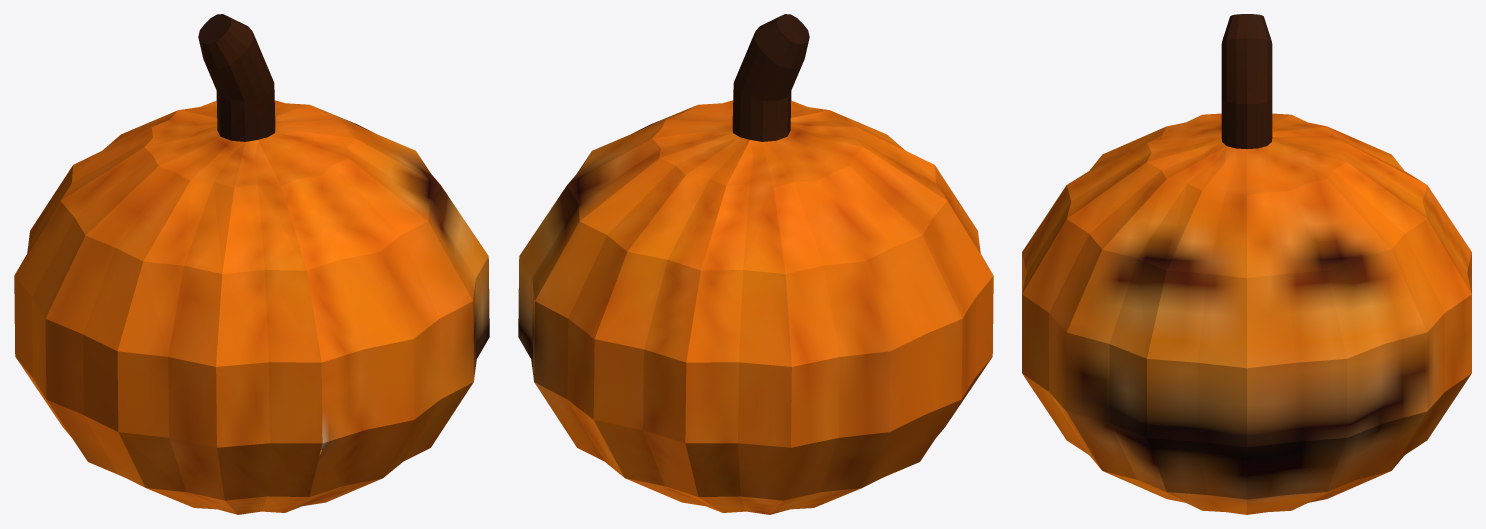
The model's file is PUMPKIN HAT.fbx.
3 renders of one model, left to right at view 1: azimuth 30°, elevation 25°; view 2: azimuth 150°, elevation 25°; view 3: azimuth 270°, elevation 25°, orthographic. The views are drawn at different scales.
Visible parts, largest first — view 1: PUMPKIN_HAT; view 2: PUMPKIN_HAT; view 3: PUMPKIN_HAT.
Boxes of the visible parts, x1,y1,x2,y2 form: PUMPKIN_HAT: (14, 14, 489, 514); PUMPKIN_HAT: (518, 14, 993, 514); PUMPKIN_HAT: (1022, 14, 1471, 514).
Size of the model in its own units: 14.15 by 15.66 by 13.77.
